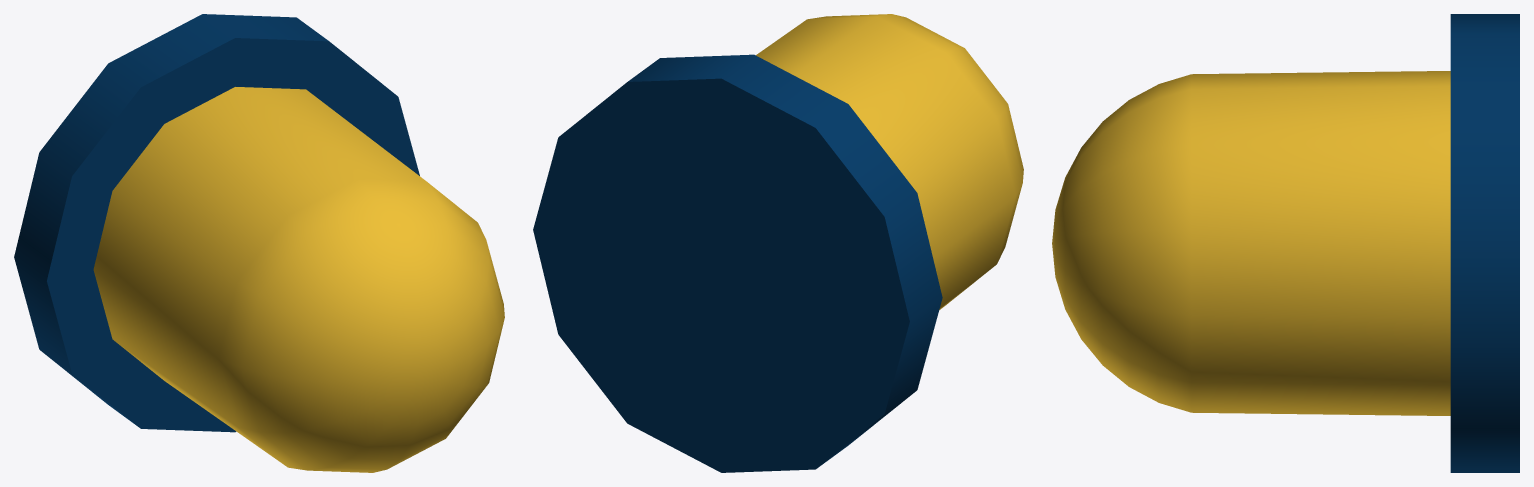
File: 8_Flasher.fbx
3 views of the same model, side by side, from view 1: azimuth 30°, elevation 25°; view 2: azimuth 150°, elevation 25°; view 3: azimuth 270°, elevation 25° (orthographic). The views are drawn at different scales.
Parts seen in each view (by area): view 1: 8_Flasher; view 2: 8_Flasher; view 3: 8_Flasher.
Part boxes in pixels (<box>): 8_Flasher: <box>14,14,504,472</box>; 8_Flasher: <box>533,14,1023,472</box>; 8_Flasher: <box>1052,14,1519,472</box>.
Size of the model in its own units: 49.98 by 49.98 by 50.75.
